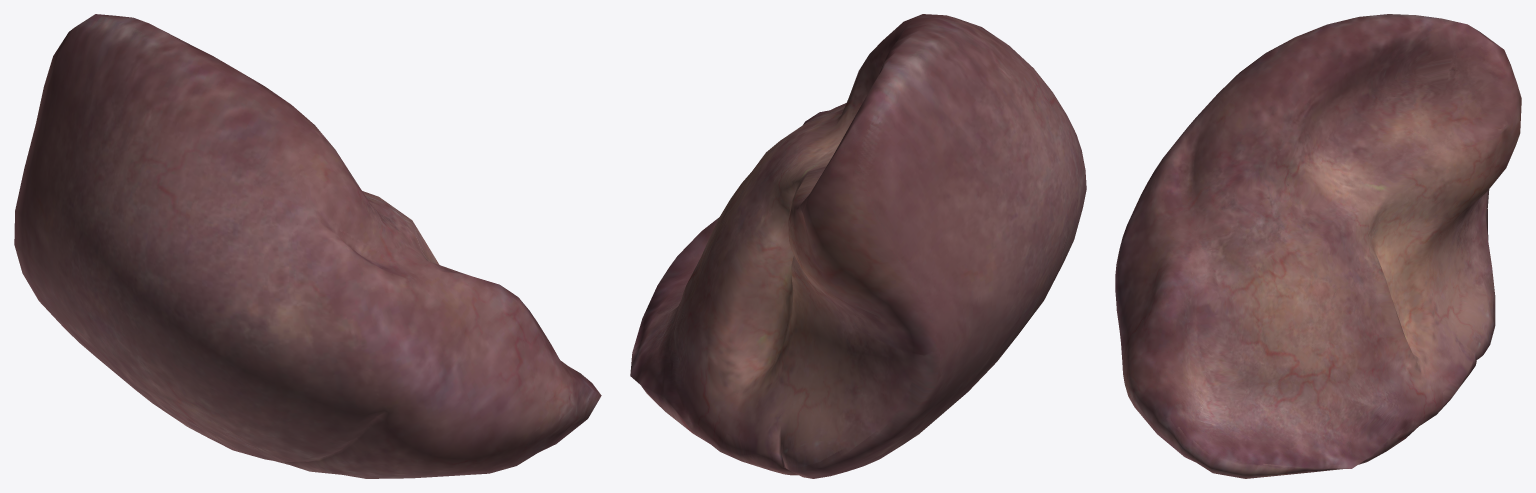
Rendered from 7ebb8614-758d-4f99-ada6-7c42329e4739.fbx.
3 renders of one model, left to right at view 1: azimuth 30°, elevation 25°; view 2: azimuth 150°, elevation 25°; view 3: azimuth 270°, elevation 25°, orthographic. The views are drawn at different scales.
Parts seen in each view (by area): view 1: livernaycolbasa_male_liver-lo; view 2: livernaycolbasa_male_liver-lo; view 3: livernaycolbasa_male_liver-lo.
Part boxes in pixels (x1,y1,x2,y2): livernaycolbasa_male_liver-lo: (14, 14, 601, 478); livernaycolbasa_male_liver-lo: (630, 14, 1086, 478); livernaycolbasa_male_liver-lo: (1115, 14, 1521, 478).
Bounding box in the file's own units: 17.48 × 16.09 × 17.01.
Materials: 1 (1 with a texture image).
